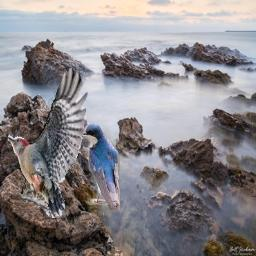Swallow: (83, 123, 120, 210)
Woodpecker: (8, 65, 88, 218)
